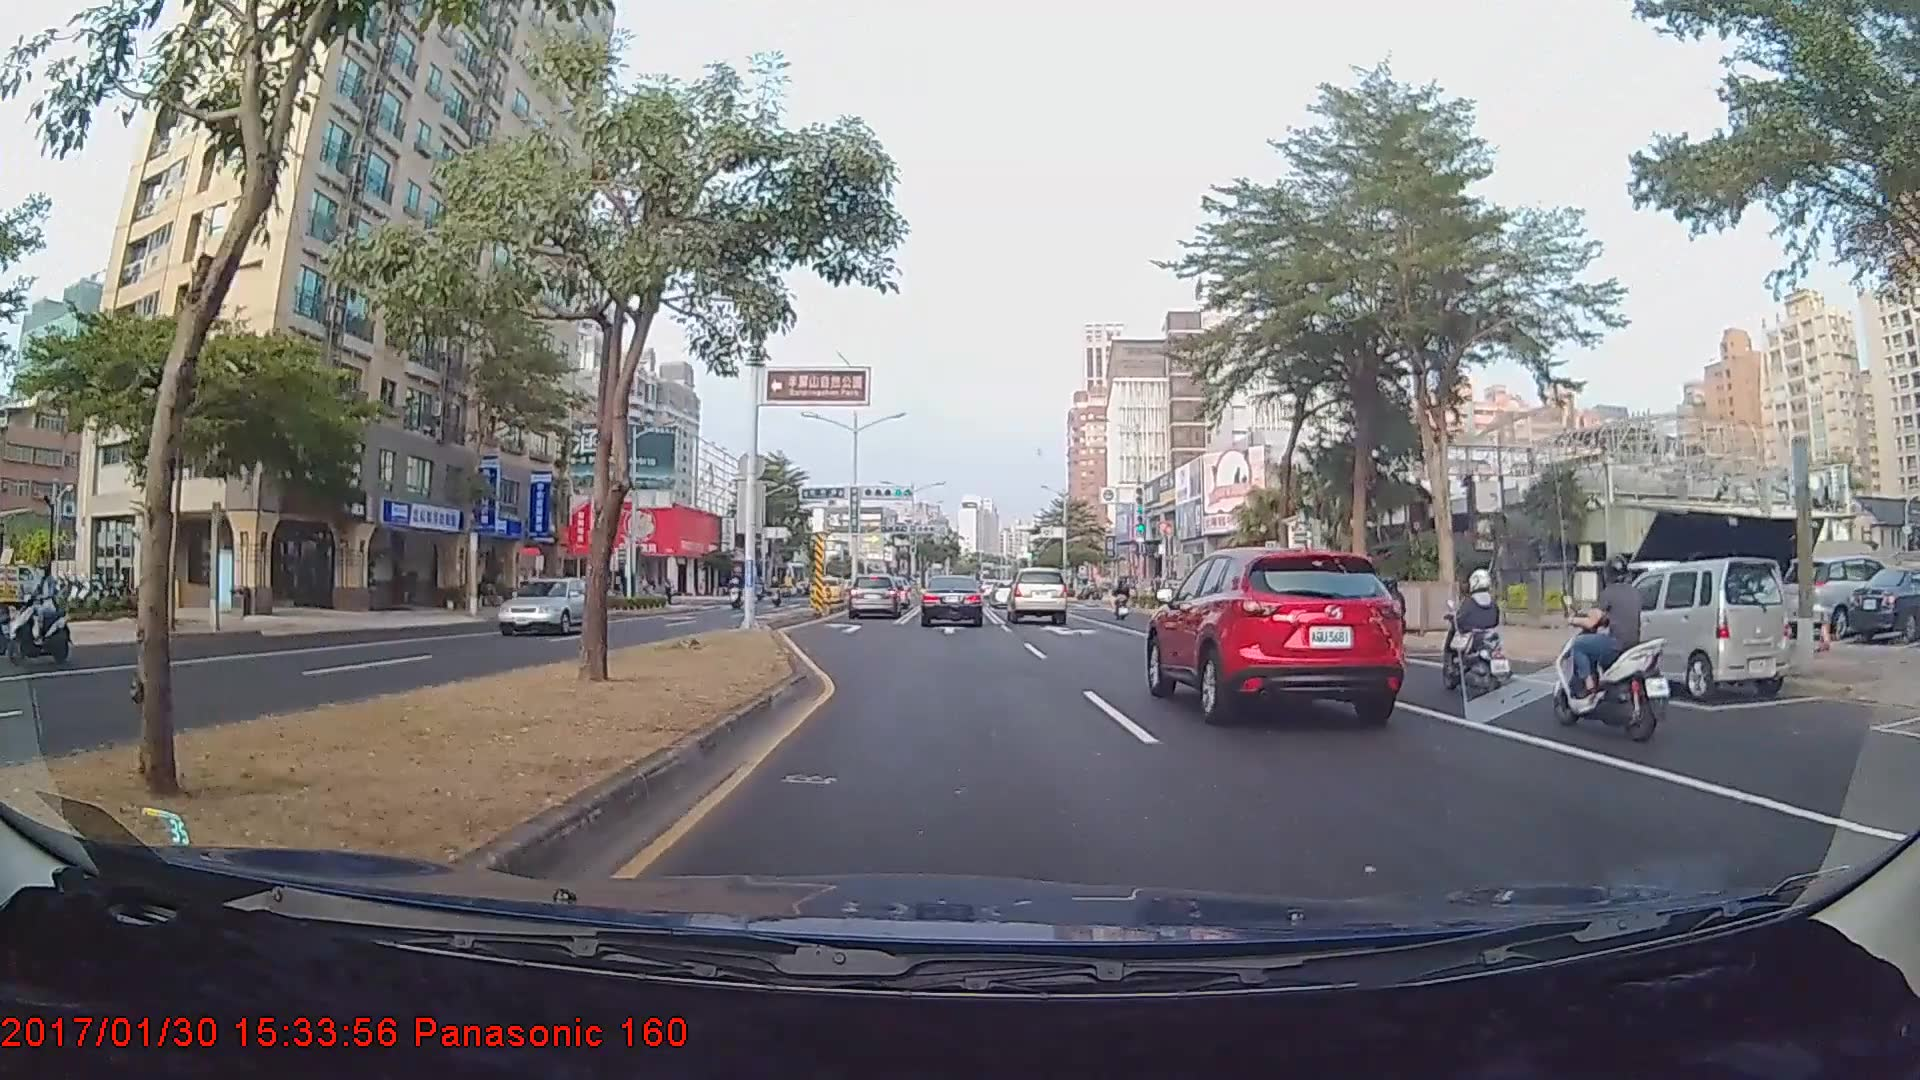rider: (1542, 553, 1672, 741), (1431, 572, 1528, 714), (1, 561, 77, 668), (1365, 576, 1411, 679), (1112, 585, 1137, 628)
vehicle: (1145, 541, 1407, 722), (1588, 558, 1791, 703), (494, 576, 596, 636), (1006, 564, 1068, 625), (919, 574, 984, 628), (845, 572, 909, 620)
